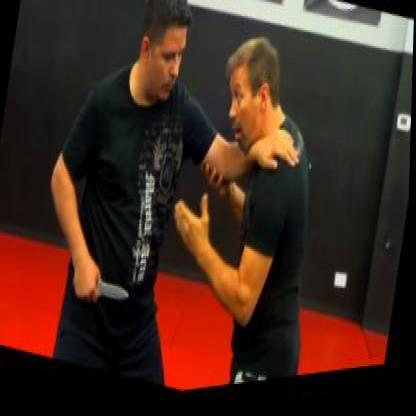knife: (68, 260, 136, 320)
